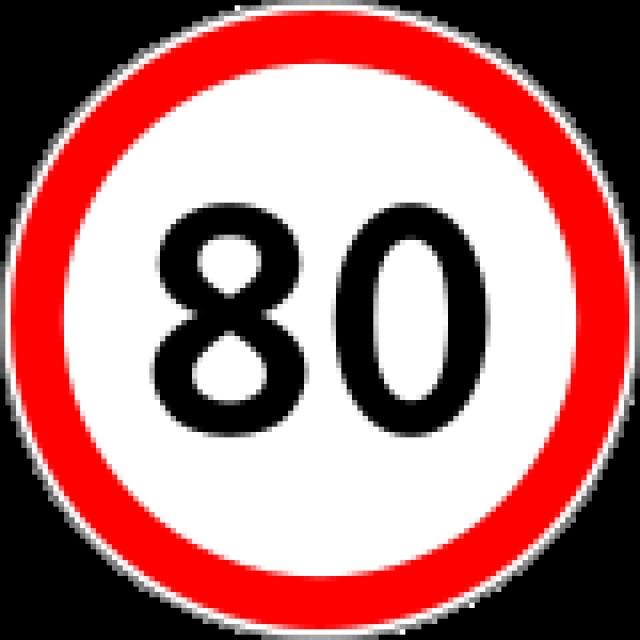Speed Limit -70-: (125, 177, 512, 453)
